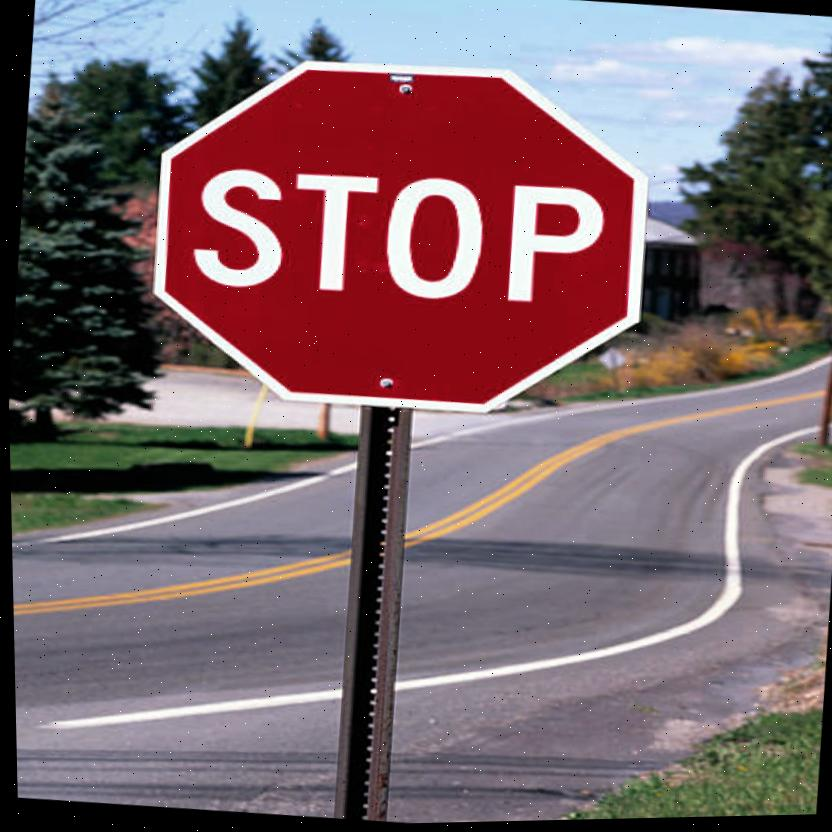Pole: (314, 404, 427, 824)
Sign: (138, 42, 660, 435)
